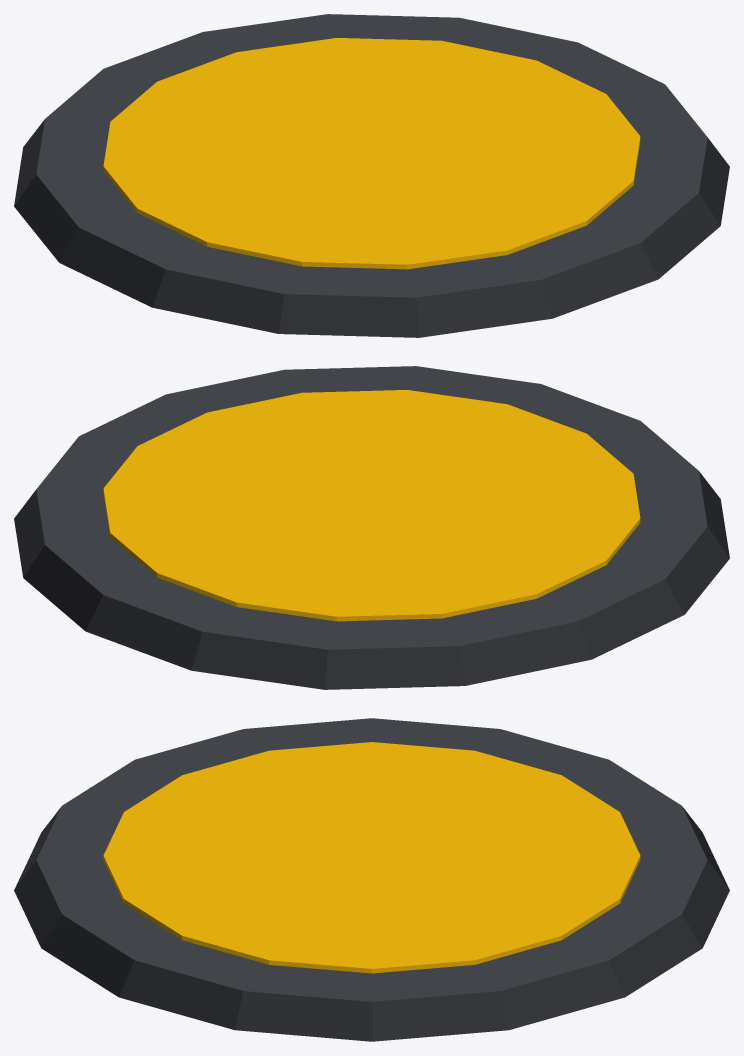
The model's file is landing_pad.obj.
3 views of the same model, one above another, from view 1: azimuth 30°, elevation 25°; view 2: azimuth 150°, elevation 25°; view 3: azimuth 270°, elevation 25° (orthographic).
Visible parts, largest first — view 1: LandingPad; view 2: LandingPad; view 3: LandingPad.
Boxes of the visible parts, x1,y1,x2,y2 form: LandingPad: (14,14,729,337); LandingPad: (14,366,729,689); LandingPad: (14,718,729,1041).
Bounding box in the file's own units: 6.4 × 0.345 × 6.4.
